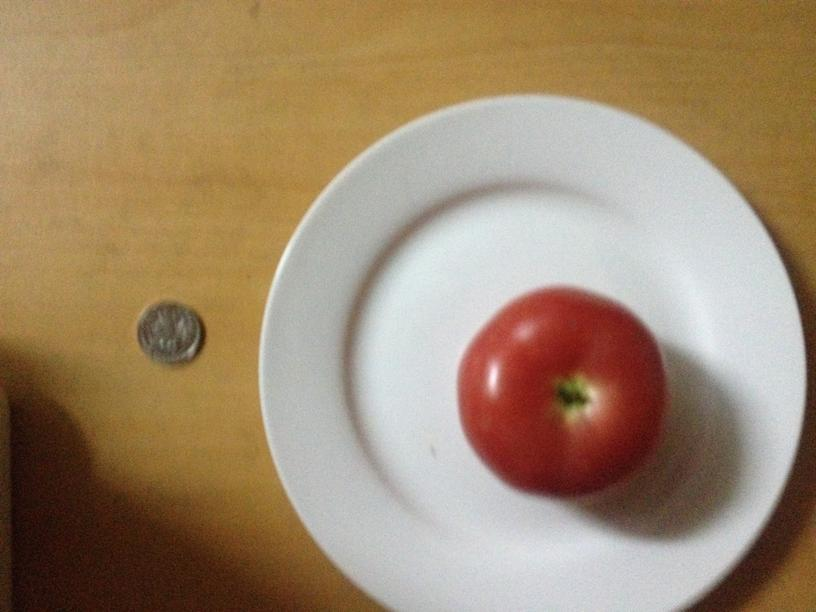coin: (134, 302, 205, 365)
tomato: (459, 279, 668, 497)
